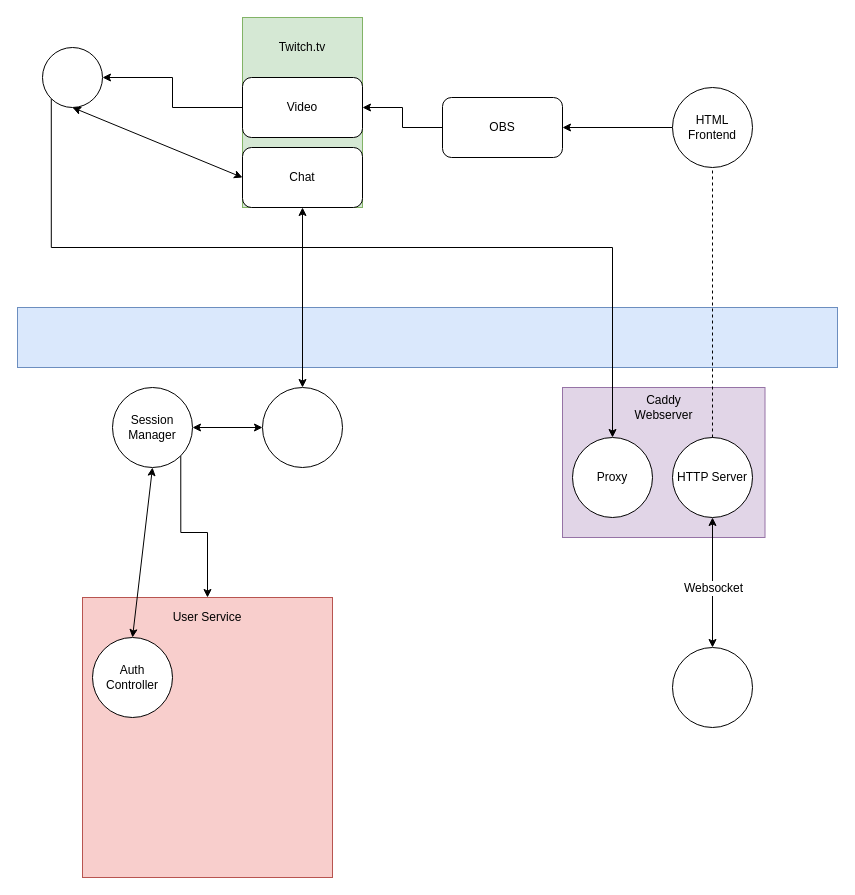
This 855x895 diagram has some shape labels left out. The centre of each missing label's shape, as x and y in pixels:
Chat service: the point at 302,427
Docker: the point at 427,337
UI Controller: the point at 712,687
User: the point at 72,77
